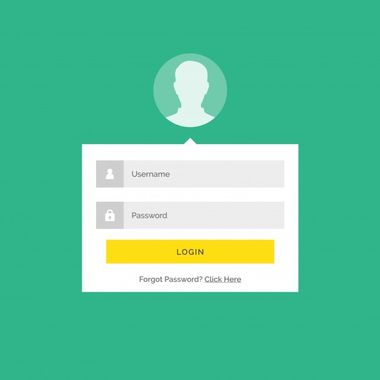button: (105, 239, 276, 266)
field: (94, 200, 285, 231), (94, 159, 285, 189)
